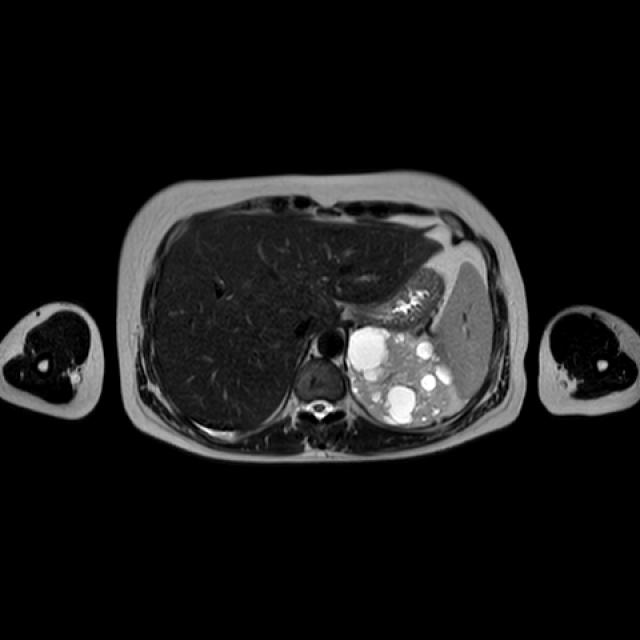sol: (350, 326, 452, 427)
